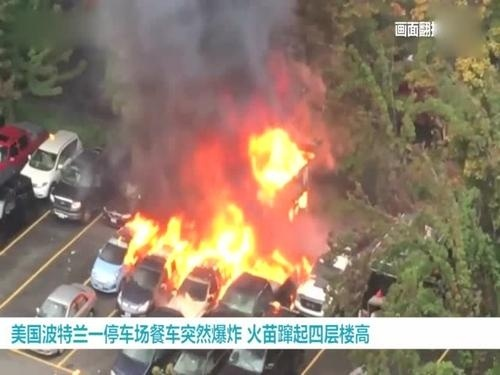fire: (123, 201, 315, 299), (246, 122, 313, 216)
